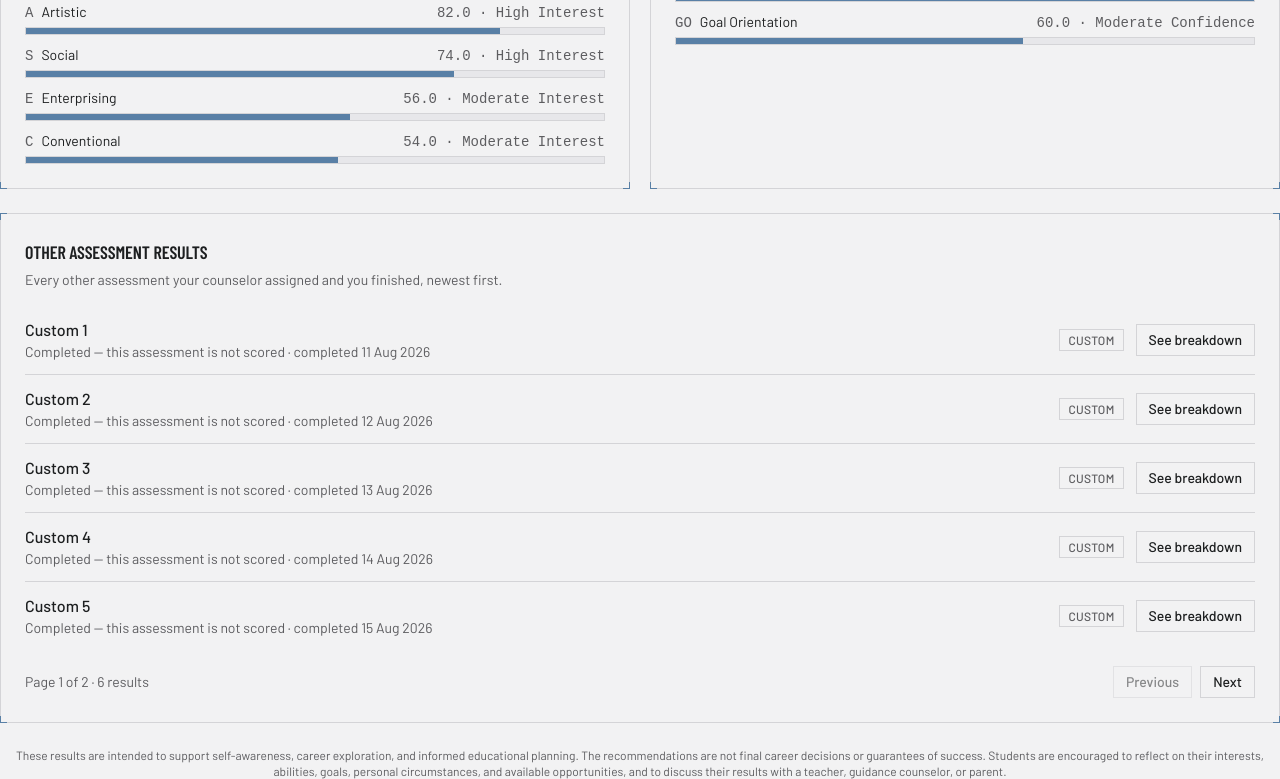
Test case: ResultListPage › lists every other result below the two cards, five to a page
(page scrolled)
Check: the text "Custom 1" is shown, box [25,320,88,339]
Check: the text "Custom 5" is shown, box [25,596,90,615]
Click the button "Next" at (1228, 682), box [1200,666,1255,698]
(page scrolled)
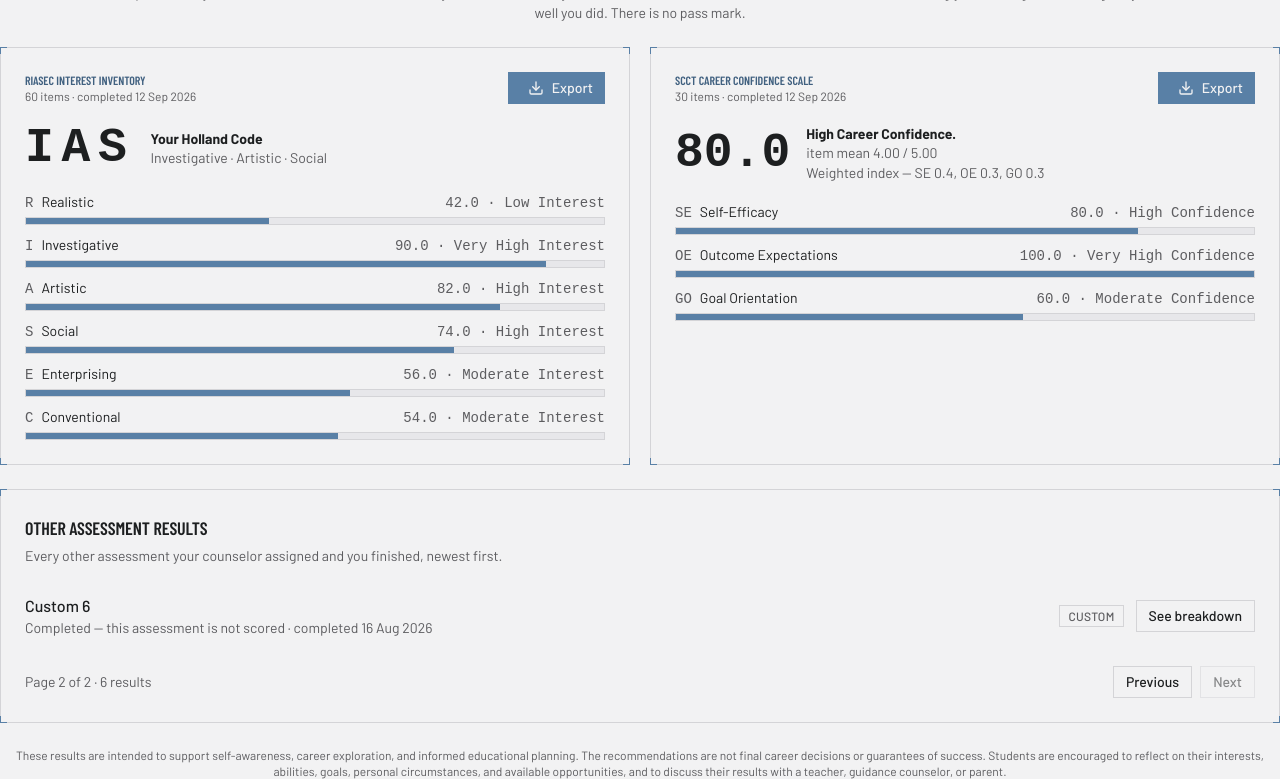
Check: the text "Custom 6" is shown, box [25,596,90,615]
Check: the text "Custom 1" is gone
